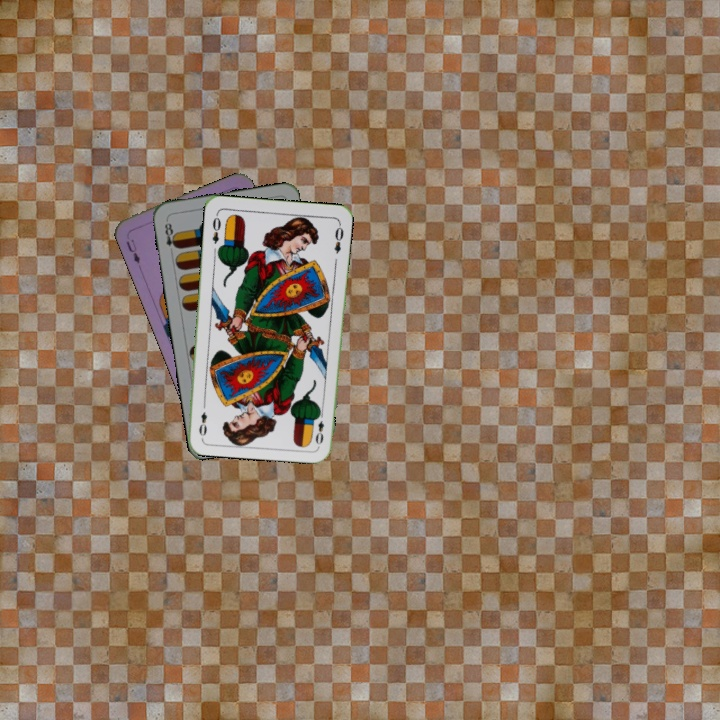E8: (161, 216, 180, 257)
EO: (311, 407, 327, 447), (208, 210, 224, 246)
EU: (122, 235, 143, 266)
